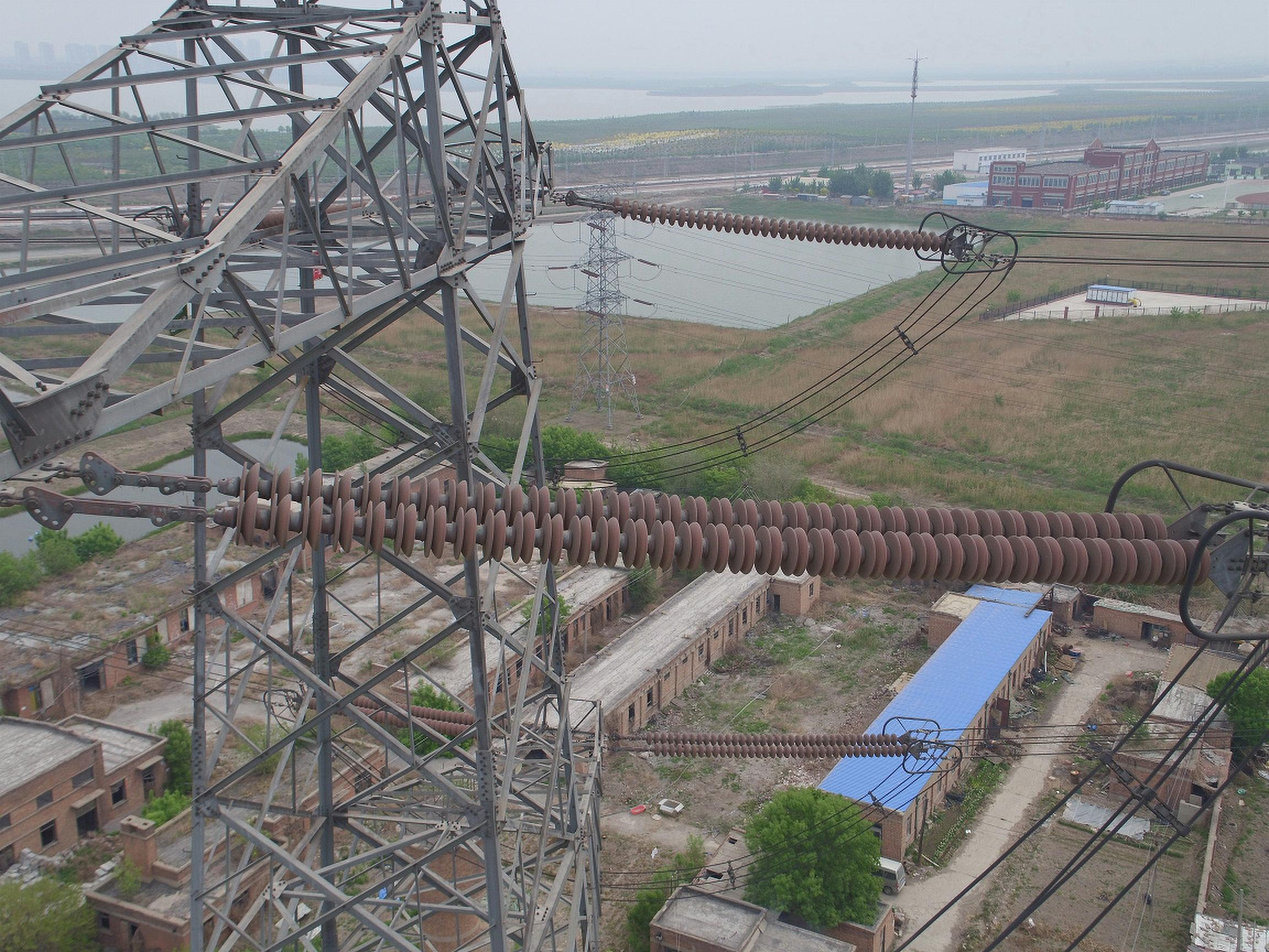insulator: (227, 455, 1218, 591), (610, 196, 952, 255), (298, 687, 478, 740), (642, 729, 910, 760), (179, 198, 372, 240)
